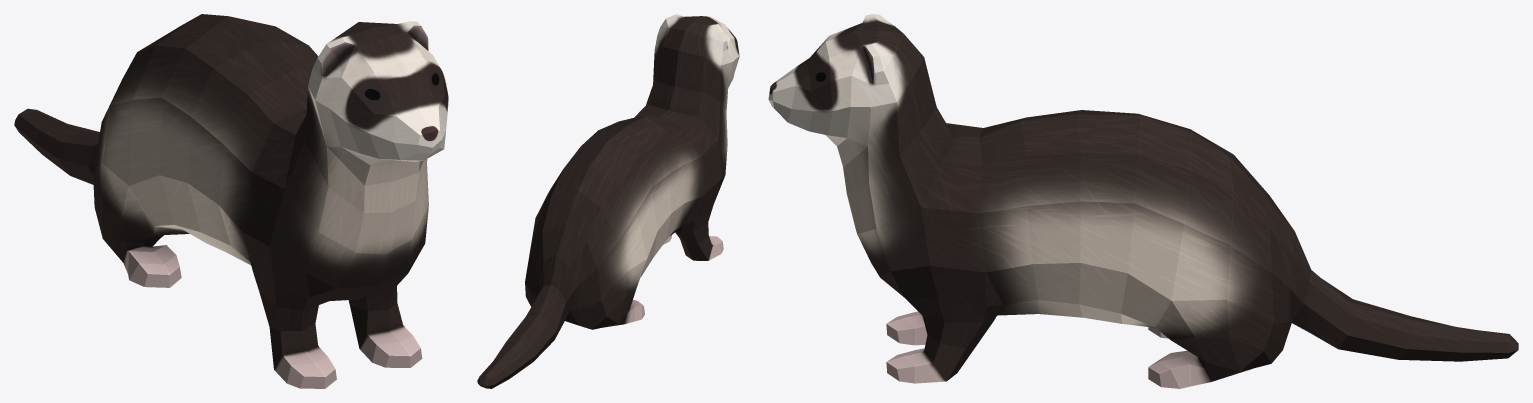
3 views of the same model, side by side, from view 1: azimuth 30°, elevation 25°; view 2: azimuth 150°, elevation 25°; view 3: azimuth 270°, elevation 25° (orthographic). The views are drawn at different scales.
Parts seen in each view (by area): view 1: Ferret_Mesh; view 2: Ferret_Mesh; view 3: Ferret_Mesh.
Part boxes in pixels (<box>): Ferret_Mesh: <box>14,14,448,388</box>; Ferret_Mesh: <box>477,14,739,388</box>; Ferret_Mesh: <box>768,14,1518,388</box>.
Bounding box in the file's own units: 1.03 × 2.13 × 4.41.
1 material, 1 textured.
